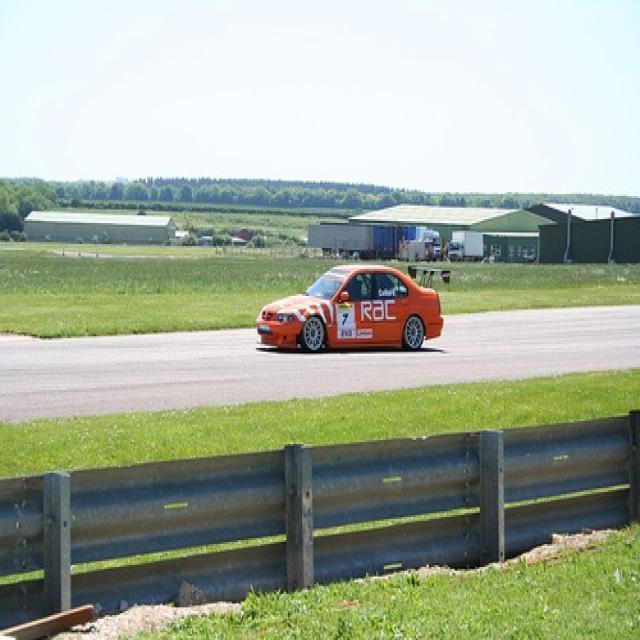car: (257, 262, 444, 356)
